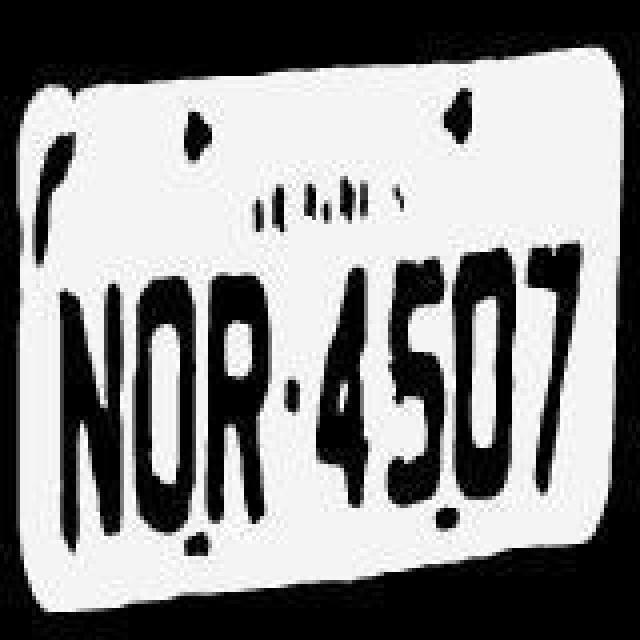4: (308, 242, 380, 518)
5: (374, 244, 450, 516)
7: (516, 230, 596, 506)
N: (54, 266, 130, 550)
O: (446, 238, 522, 514), (128, 252, 200, 532)
R: (202, 256, 278, 528)
